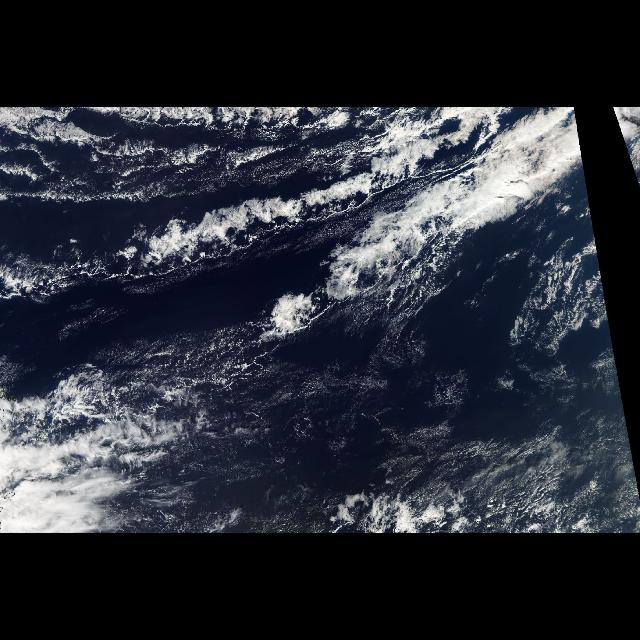Fish: (93, 109, 597, 343)
Sugar: (222, 334, 640, 534)
